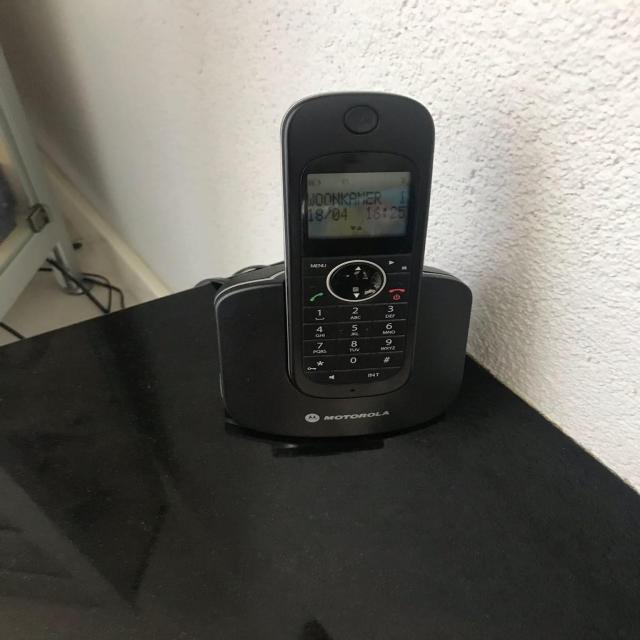Phone: (217, 89, 472, 444)
